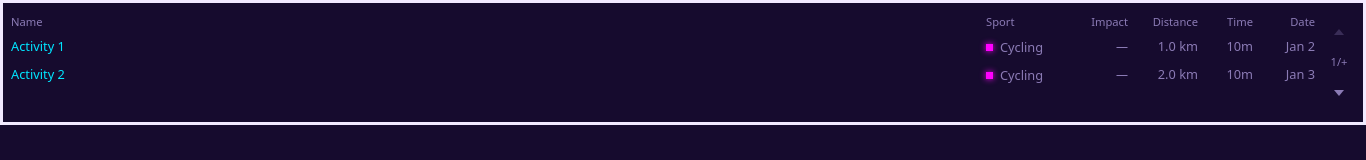
Test: RecentActivitiesList pagination › advances on the first Older click at a server-page boundary
Check: the text "1/+" is shown, box 1330,54 -> 1348,69
Click the button named "Older activities": click(1339, 92) 1323,70 -> 1355,114
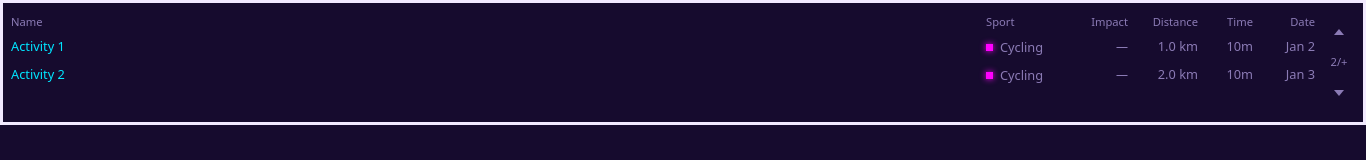
Check: the text "2/+" is shown, box 1330,54 -> 1348,69
